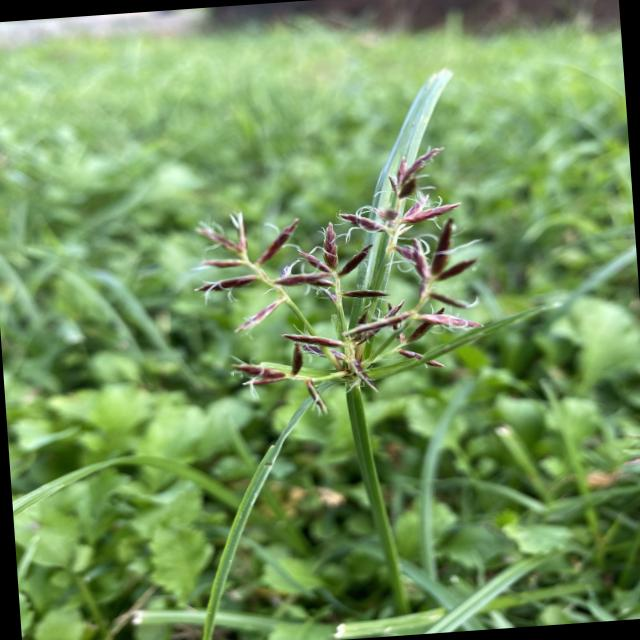cyperus: (172, 142, 502, 404)
